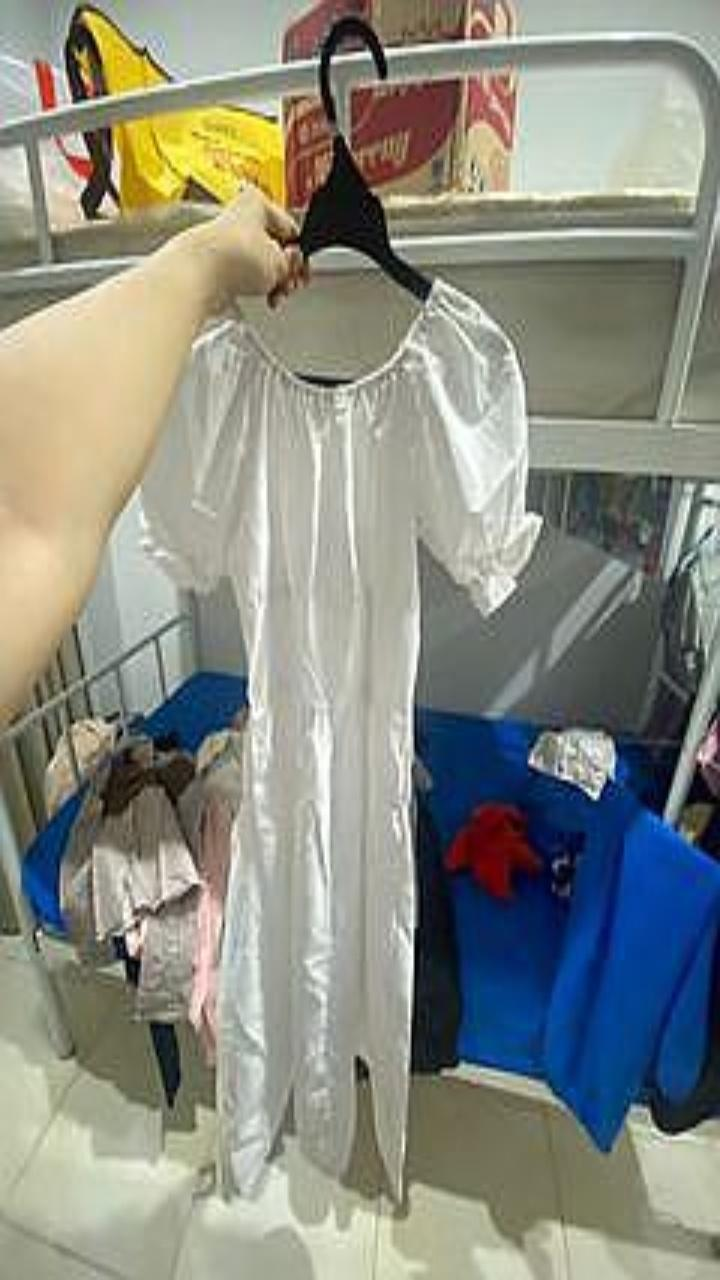Dresses: (143, 281, 538, 1190)
